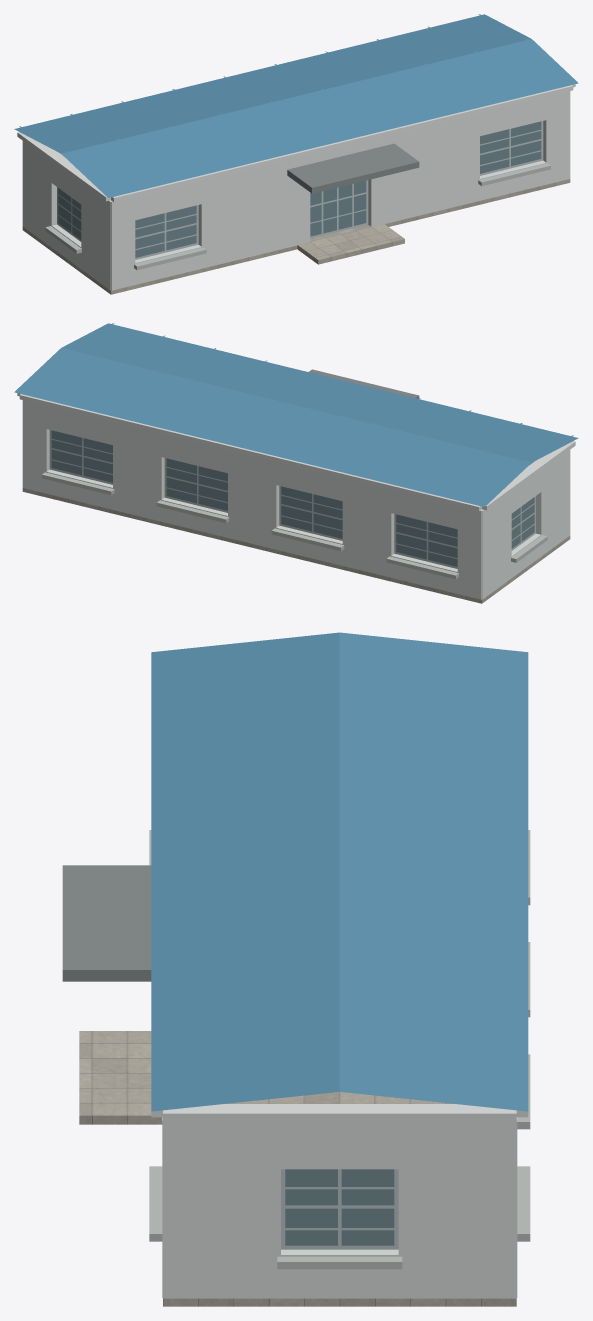
3 renders of one model, top to bottom at view 1: azimuth 30°, elevation 25°; view 2: azimuth 150°, elevation 25°; view 3: azimuth 270°, elevation 25°, orthographic. The views are drawn at different scales.
Visible parts, largest first — view 1: storage__metalroof, storage__panel, storage__glass, storage__cap, storage__entrance, storage__frame, storage__threshold-front, storage__stone, storage__sill; view 2: storage__metalroof, storage__panel, storage__glass, storage__cap, storage__frame, storage__sill, storage__stone, storage__entrance; view 3: storage__metalroof, storage__panel, storage__entrance, storage__glass, storage__threshold-front, storage__cap, storage__sill, storage__stone, storage__frame.
Part boxes in pixels (left/top/right/bottom): storage__metalroof: left=14, top=14, right=578, bottom=197; storage__panel: left=22, top=91, right=570, bottom=290; storage__glass: left=58, top=121, right=541, bottom=257; storage__cap: left=17, top=84, right=575, bottom=202; storage__entrance: left=287, top=143, right=419, bottom=193; storage__frame: left=57, top=121, right=543, bottom=259; storage__threshold-front: left=297, top=224, right=404, bottom=264; storage__stone: left=22, top=179, right=570, bottom=294; storage__sill: left=45, top=163, right=550, bottom=270; storage__metalroof: left=14, top=323, right=578, bottom=506; storage__panel: left=22, top=400, right=570, bottom=599; storage__glass: left=51, top=430, right=534, bottom=566; storage__cap: left=17, top=393, right=575, bottom=511; storage__frame: left=49, top=430, right=535, bottom=568; storage__sill: left=42, top=472, right=547, bottom=579; storage__stone: left=22, top=488, right=570, bottom=603; storage__entrance: left=309, top=369, right=419, bottom=398; storage__metalroof: left=151, top=632, right=528, bottom=1111; storage__panel: left=162, top=1117, right=517, bottom=1298; storage__entrance: left=62, top=865, right=151, bottom=981; storage__glass: left=285, top=1169, right=394, bottom=1245; storage__threshold-front: left=79, top=1031, right=162, bottom=1124; storage__cap: left=151, top=1104, right=528, bottom=1122; storage__sill: left=149, top=830, right=530, bottom=1269; storage__stone: left=163, top=1092, right=516, bottom=1306; storage__frame: left=281, top=1169, right=398, bottom=1249.
Bounding box in the file's own units: 18.46 × 4.17 × 7.93.
8 materials, 1 textured.
